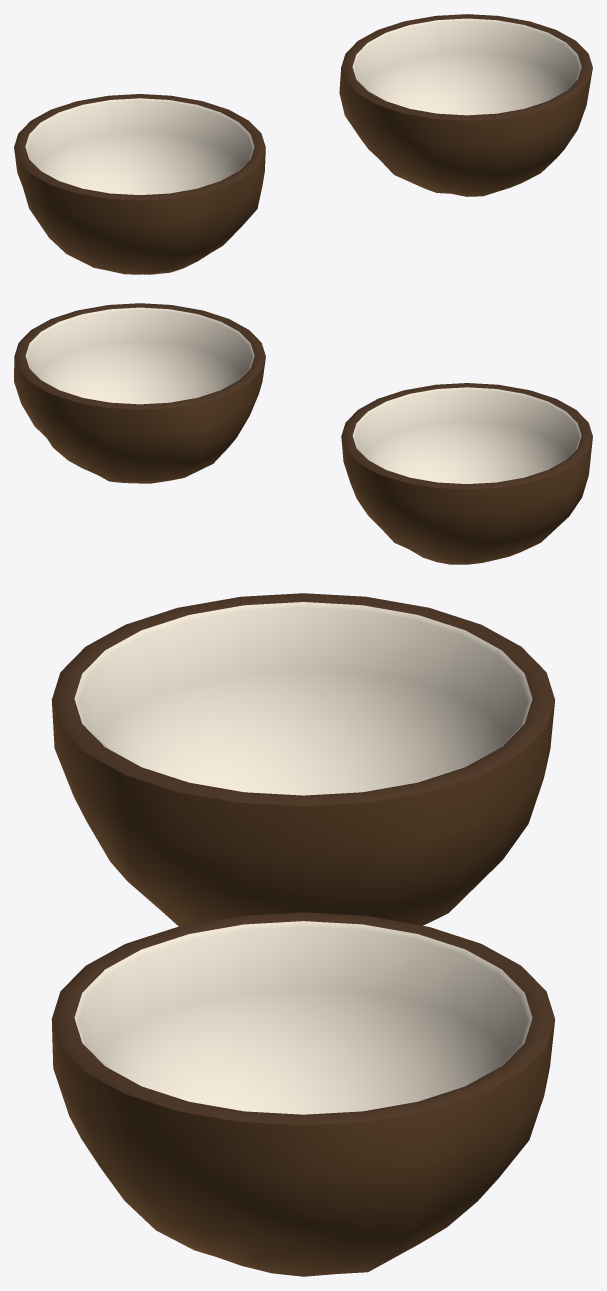
The model's file is coconut_pair.glb.
The picture shows the model from 3 angles, top to bottom: view 1: azimuth 30°, elevation 25°; view 2: azimuth 150°, elevation 25°; view 3: azimuth 270°, elevation 25°; orthographic projection. The views are drawn at different scales.
Visible parts, largest first — view 1: CoconutRight, CoconutLeft; view 2: CoconutLeft, CoconutRight; view 3: CoconutRight, CoconutLeft.
Boxes of the visible parts, box(x1,y1,x2,y2) form: CoconutRight: box(339, 14, 592, 196); CoconutLeft: box(14, 94, 265, 274); CoconutLeft: box(341, 383, 592, 564); CoconutRight: box(14, 303, 265, 483); CoconutRight: box(51, 912, 554, 1276); CoconutLeft: box(51, 593, 554, 926).
Bounding box in the file's own units: 0.2 × 0.0403 × 0.08.
